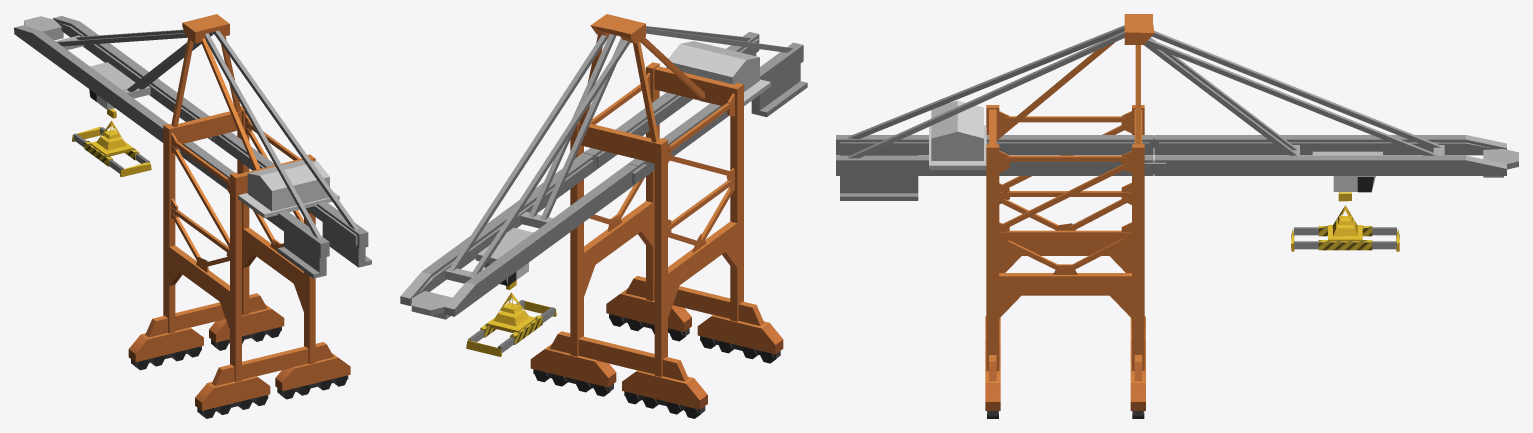
3 renders of one model, left to right at view 1: azimuth 30°, elevation 25°; view 2: azimuth 150°, elevation 25°; view 3: azimuth 270°, elevation 25°, orthographic. The views are drawn at different scales.
Parts seen in each view (by area): view 1: 吊机; view 2: 吊机; view 3: 吊机.
Boxes of the visible parts, box(x1,y1,x2,y2) form: 吊机: box(14, 14, 371, 418); 吊机: box(400, 14, 807, 418); 吊机: box(836, 14, 1518, 418).
Size of the model in its own units: 24.61 by 51.93 by 89.52.
Materials: 1 (1 with a texture image).
